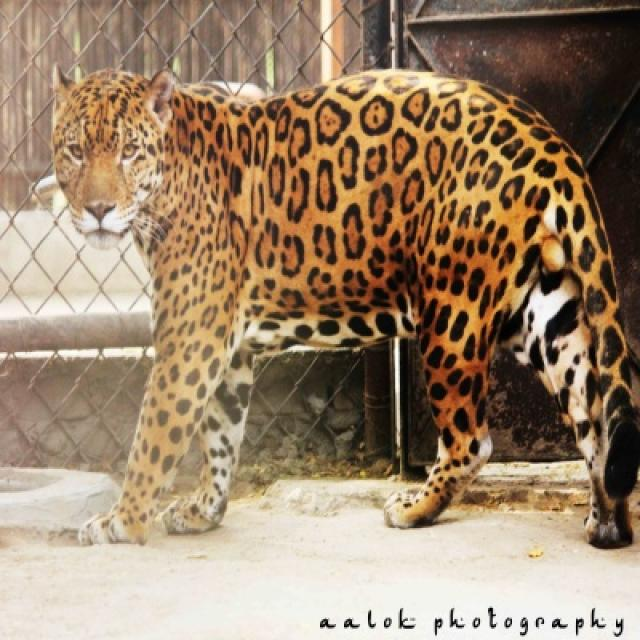Jaguar: (51, 70, 638, 554)
